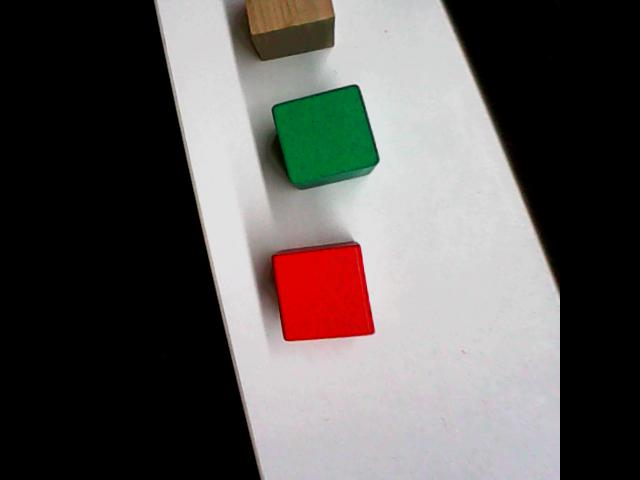green_box: (270, 82, 383, 192)
raw_box: (235, 0, 337, 65)
red_box: (269, 238, 379, 345)
